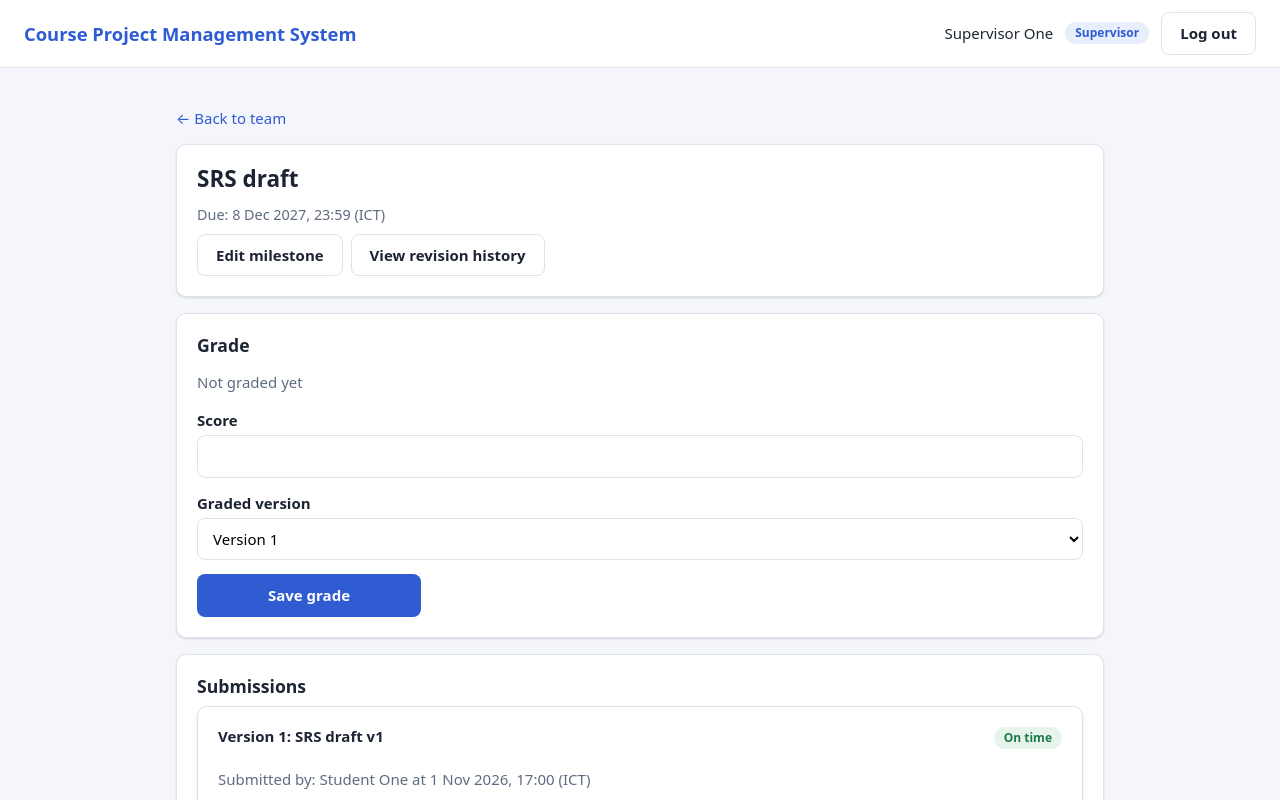
Scenario: Defect #103 Grade card button layout (F-08 v0.16) › TEST-08-22: with no grade yet the same one-row container holds Save grade only
Check: the text "Not graded yet" is shown, box [197,372,303,392]
Check: the button "Release grade" is not shown
In the number field labelled "Score": coordinates (640, 457) [197,436,1083,478], type "95"
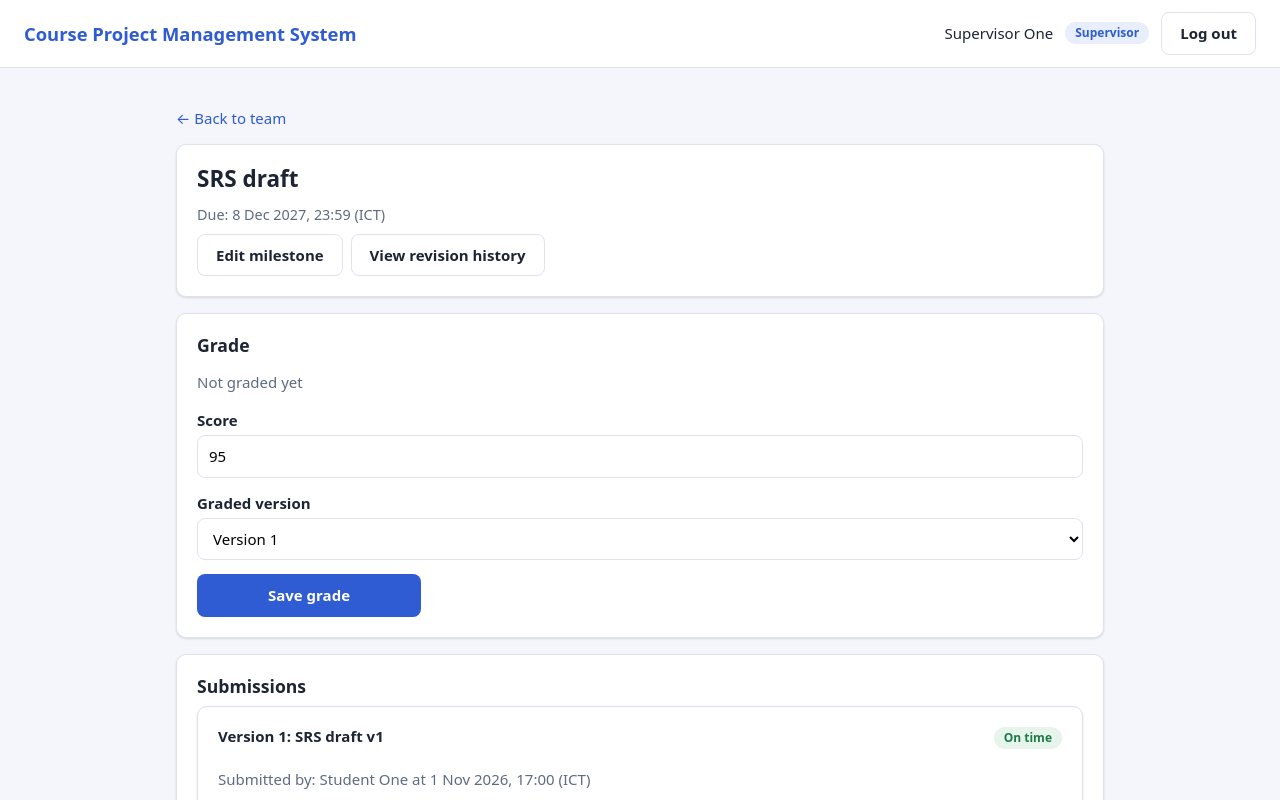
Click the button "Save grade": coordinates (309, 596) [197,574,421,617]
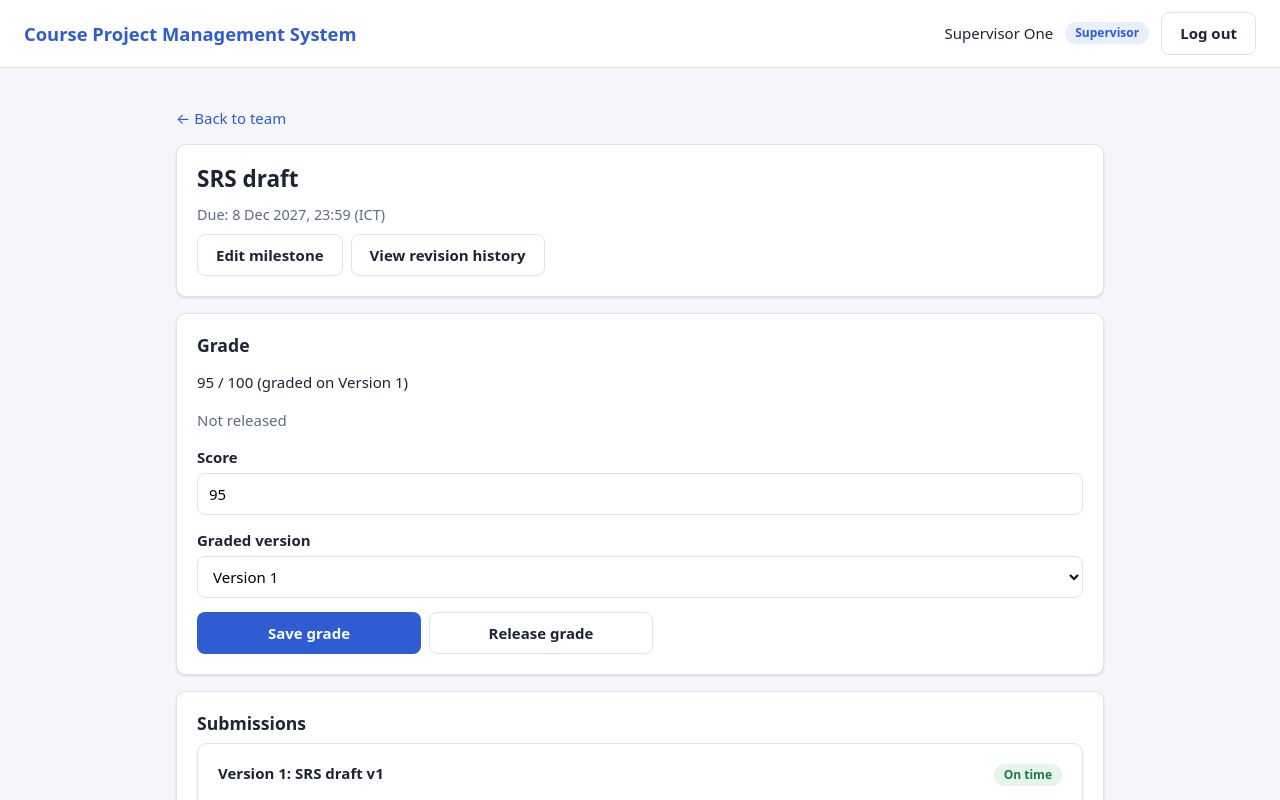
Check: the text "95 / 100 (graded on Version 1)" is shown, box [197,372,408,392]
